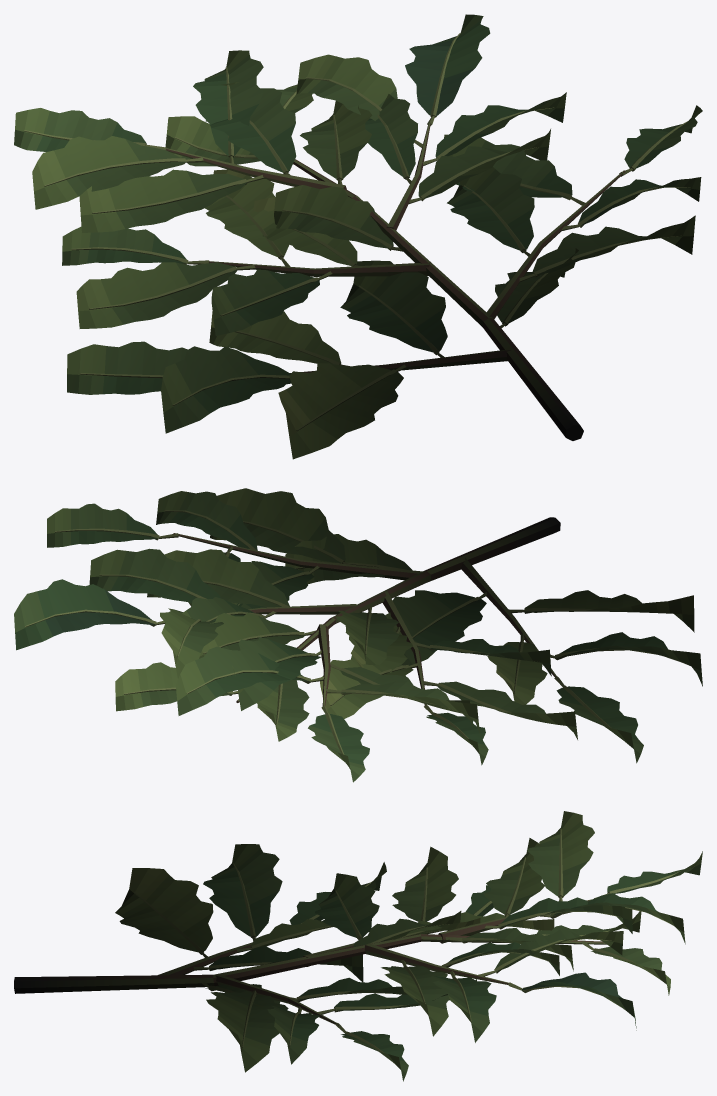
File: Oak_Spray_Tip.fbx
3 views of the same model, one above another, from view 1: azimuth 30°, elevation 25°; view 2: azimuth 150°, elevation 25°; view 3: azimuth 270°, elevation 25° (orthographic). The views are drawn at different scales.
Parts seen in each view (by area): view 1: Oak_Spray_Tip; view 2: Oak_Spray_Tip; view 3: Oak_Spray_Tip.
Boxes of the visible parts, x1,y1,x2,y2 form: Oak_Spray_Tip: (14,14,702,459); Oak_Spray_Tip: (14,488,702,782); Oak_Spray_Tip: (14,811,702,1081).
Size of the model in its own units: 0.7808 by 0.178 by 0.8314.
